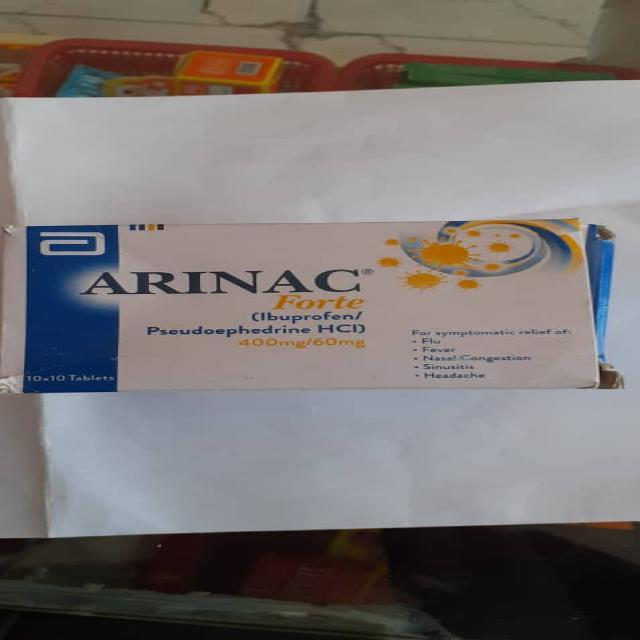drug-name: (76, 264, 366, 298)
